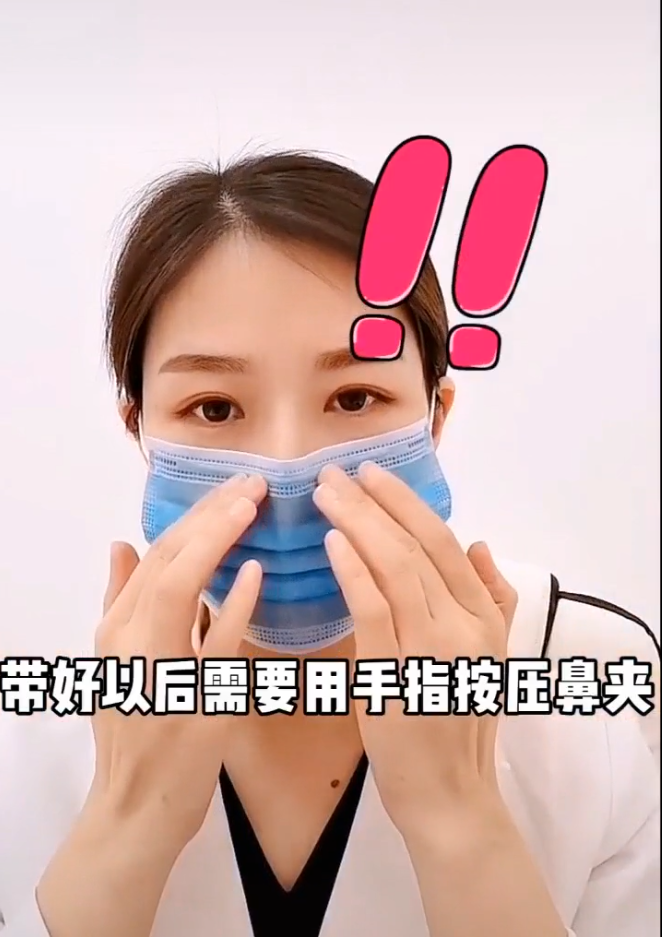face_mask: (142, 260, 431, 649)
